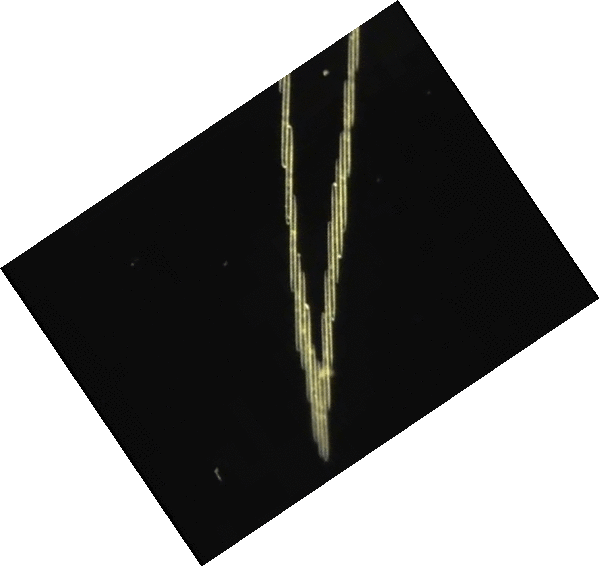bacilleria: (317, 365, 328, 463), (321, 314, 332, 407), (327, 222, 336, 320), (309, 345, 318, 442), (343, 82, 352, 176), (303, 302, 311, 400), (348, 32, 356, 129), (289, 196, 297, 290), (331, 183, 338, 282), (298, 270, 305, 369), (339, 133, 346, 230), (286, 127, 293, 223), (282, 76, 289, 168), (295, 252, 301, 352)
